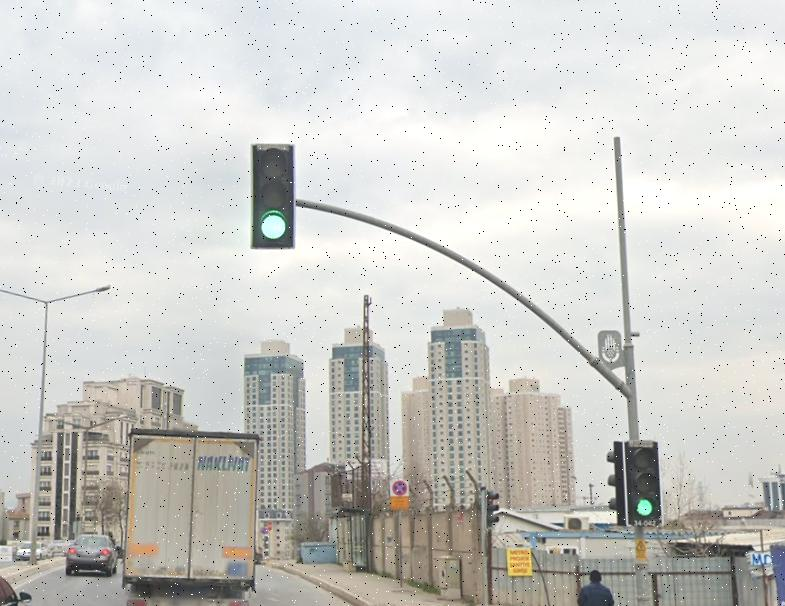greenlight: (249, 139, 297, 249), (628, 442, 662, 528)
